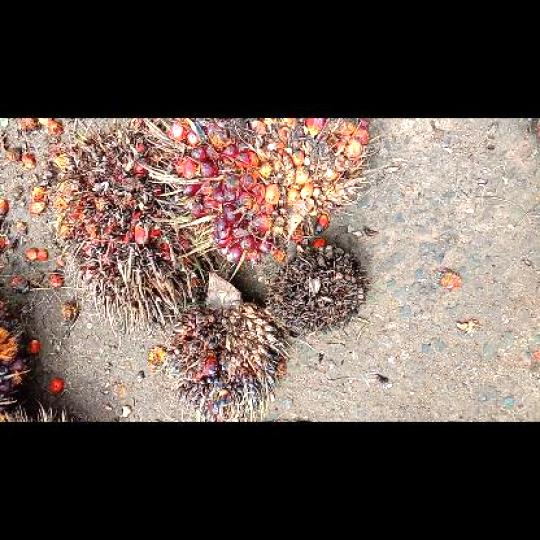masak: (132, 120, 372, 268)
terlalu masak: (41, 130, 226, 337)
